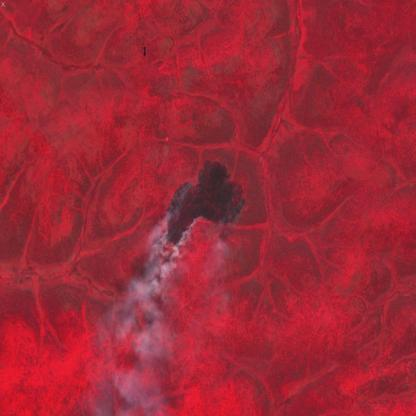fire: (164, 154, 249, 248)
